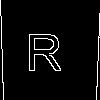R: (25, 25, 62, 71)
